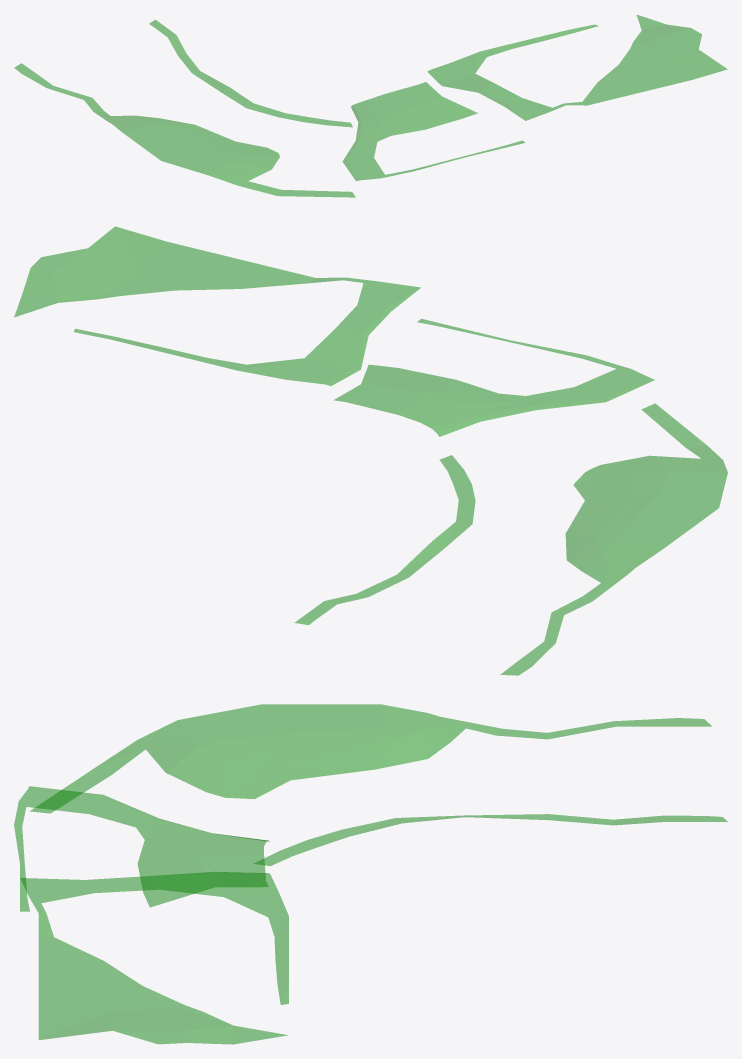
File: kusa.obj
3 renders of one model, top to bottom at view 1: azimuth 30°, elevation 25°; view 2: azimuth 150°, elevation 25°; view 3: azimuth 270°, elevation 25°, orthographic. The views are drawn at different scales.
Size of the model in its own units: 98.32 by 7.09 by 77.
